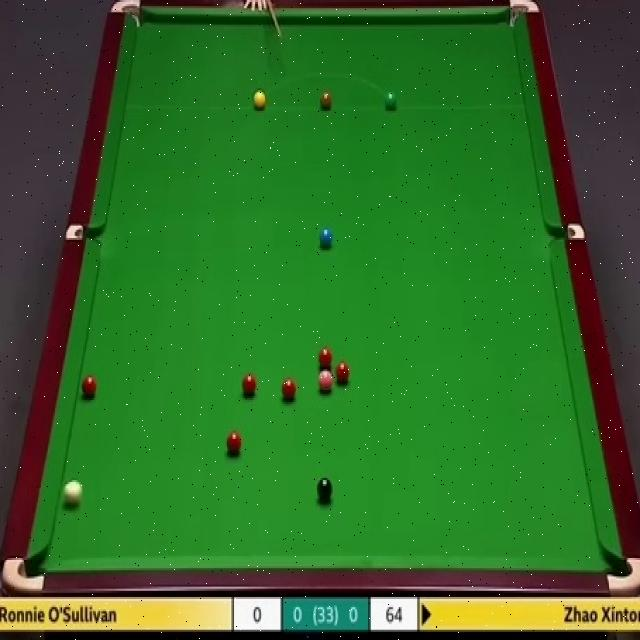black-ball: (317, 478, 333, 501)
blue-ball: (319, 229, 333, 246)
brown-ball: (320, 92, 332, 106)
green-ball: (384, 89, 398, 111)
pink-ball: (318, 369, 333, 394)
red-ball: (225, 429, 242, 457), (282, 376, 298, 403), (81, 374, 99, 394), (242, 375, 258, 395), (334, 362, 348, 383), (318, 348, 332, 368)
white-ball: (62, 480, 84, 506)
yellow-ball: (253, 90, 266, 111)
